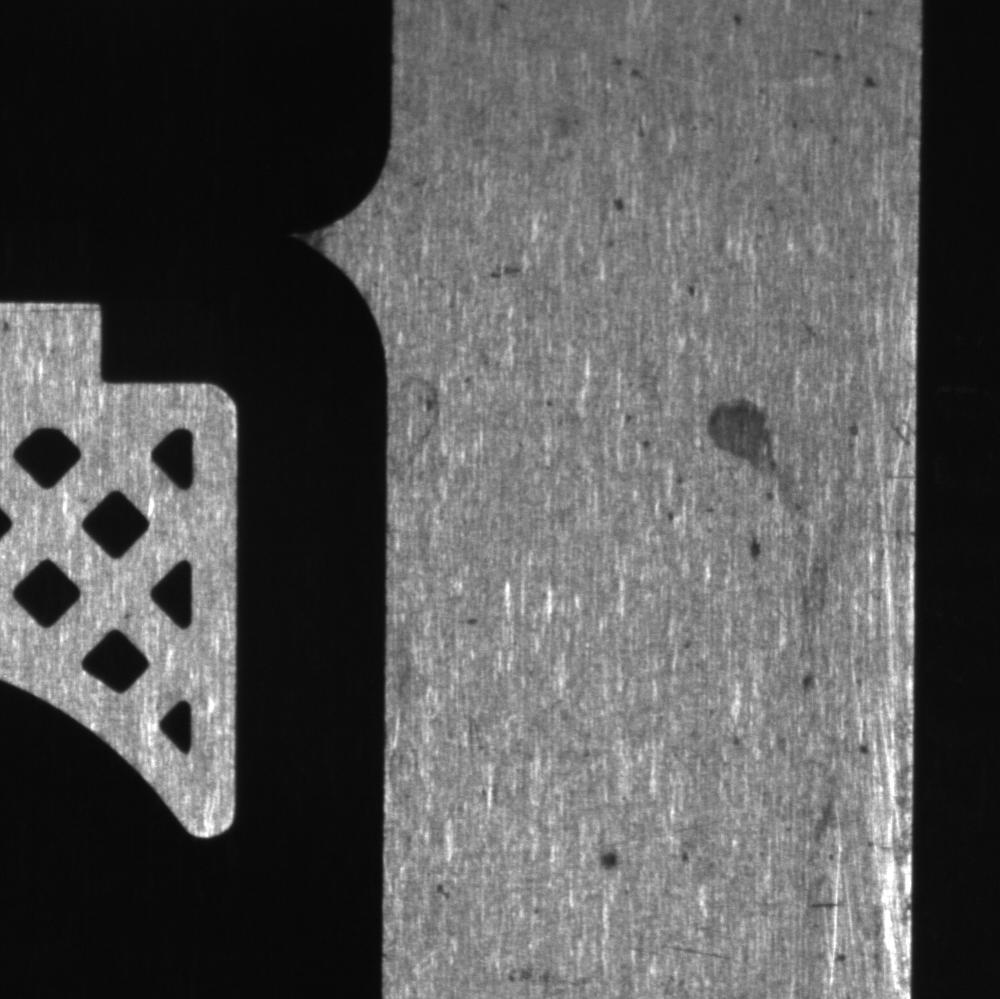Discolor: (699, 374, 816, 495), (384, 364, 452, 491)
Etching: (795, 628, 911, 977), (846, 353, 913, 606), (590, 832, 720, 896), (802, 2, 891, 94), (609, 408, 665, 460), (597, 185, 632, 254), (738, 514, 775, 575), (608, 46, 655, 93), (658, 468, 694, 529), (478, 256, 536, 288)
